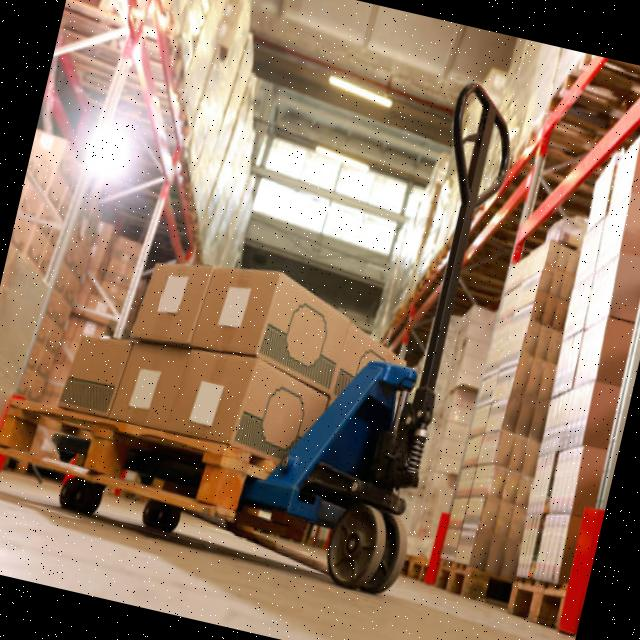Wooden-Pallets: (0, 388, 253, 534), (494, 571, 566, 638), (429, 555, 491, 612)
